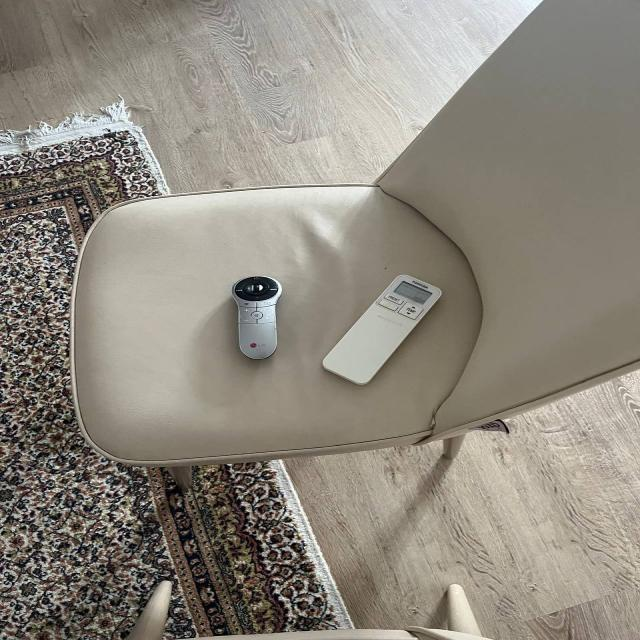remote: (314, 264, 453, 398), (225, 264, 294, 368)
